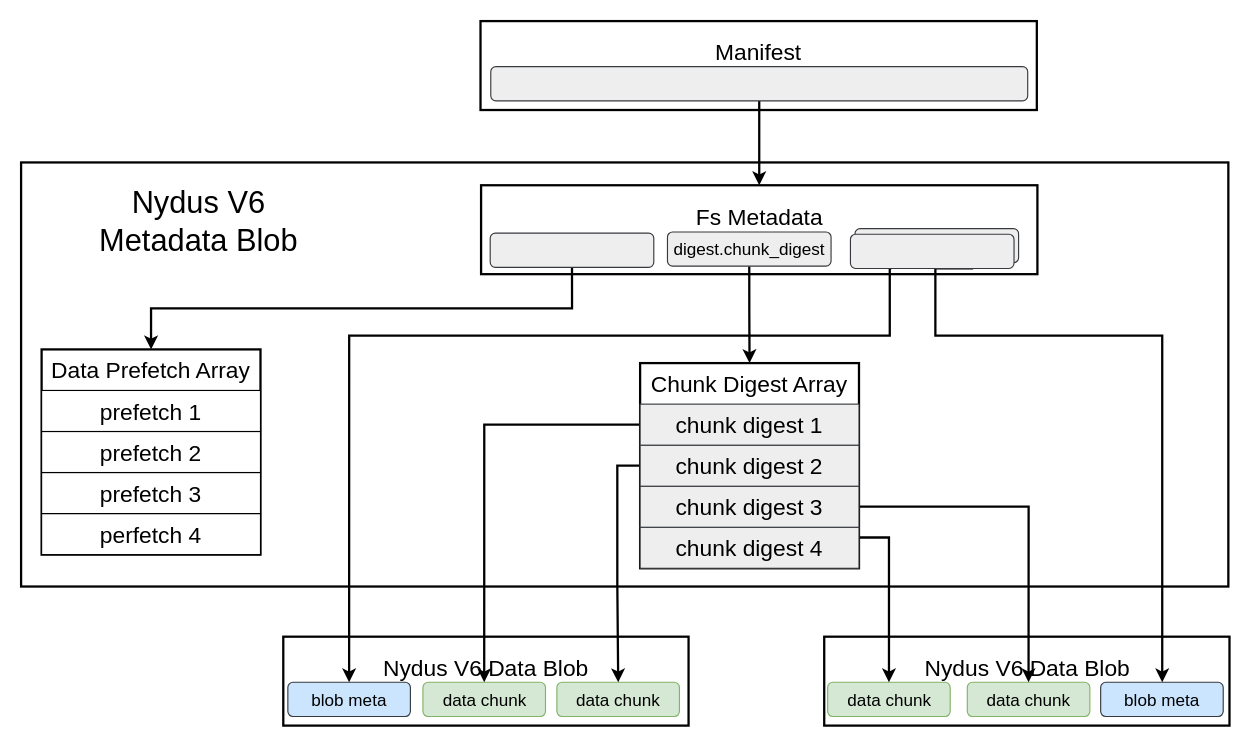
Some shapes in this 1249 by 746 pixel diagram are drawn without their labels. Each missing label, with the centre of its shape:
annotation：containerd.io/snapshot/nydus/meta.digest="xxxx": [759,83]
digest.blob_meta: [931,250]
digest.prefetch: [571,249]
